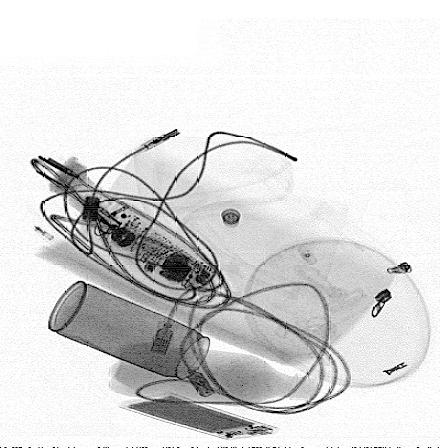Powerbank: (117, 391, 280, 443)
